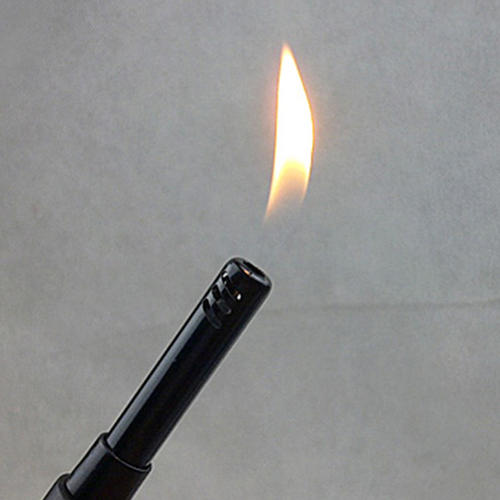Fire: (254, 46, 314, 248)
